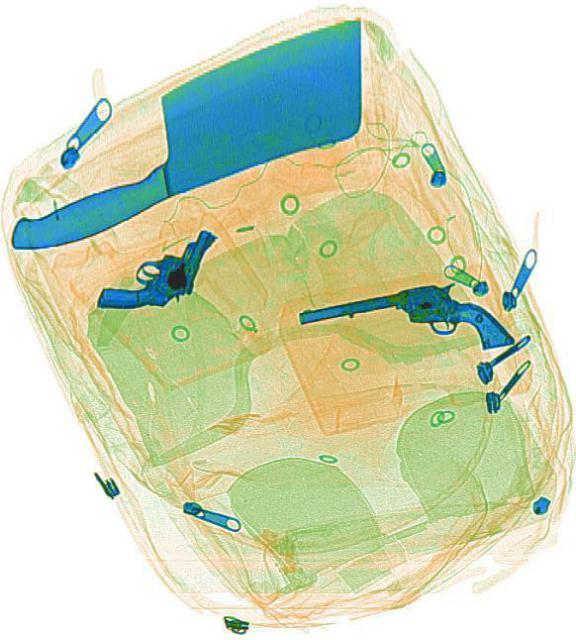Gun: (296, 267, 511, 381), (92, 200, 213, 338)
Knife: (0, 15, 392, 248)
